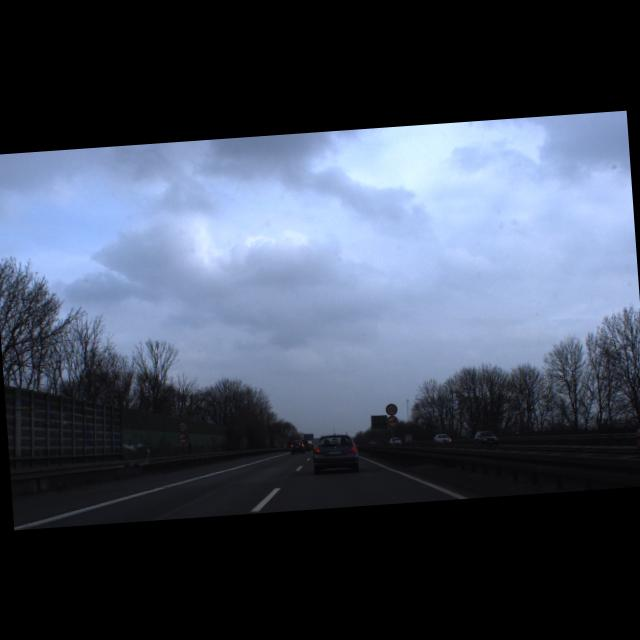prohibitory: (386, 414, 398, 428), (177, 432, 190, 444), (385, 402, 398, 414), (176, 420, 188, 432)
